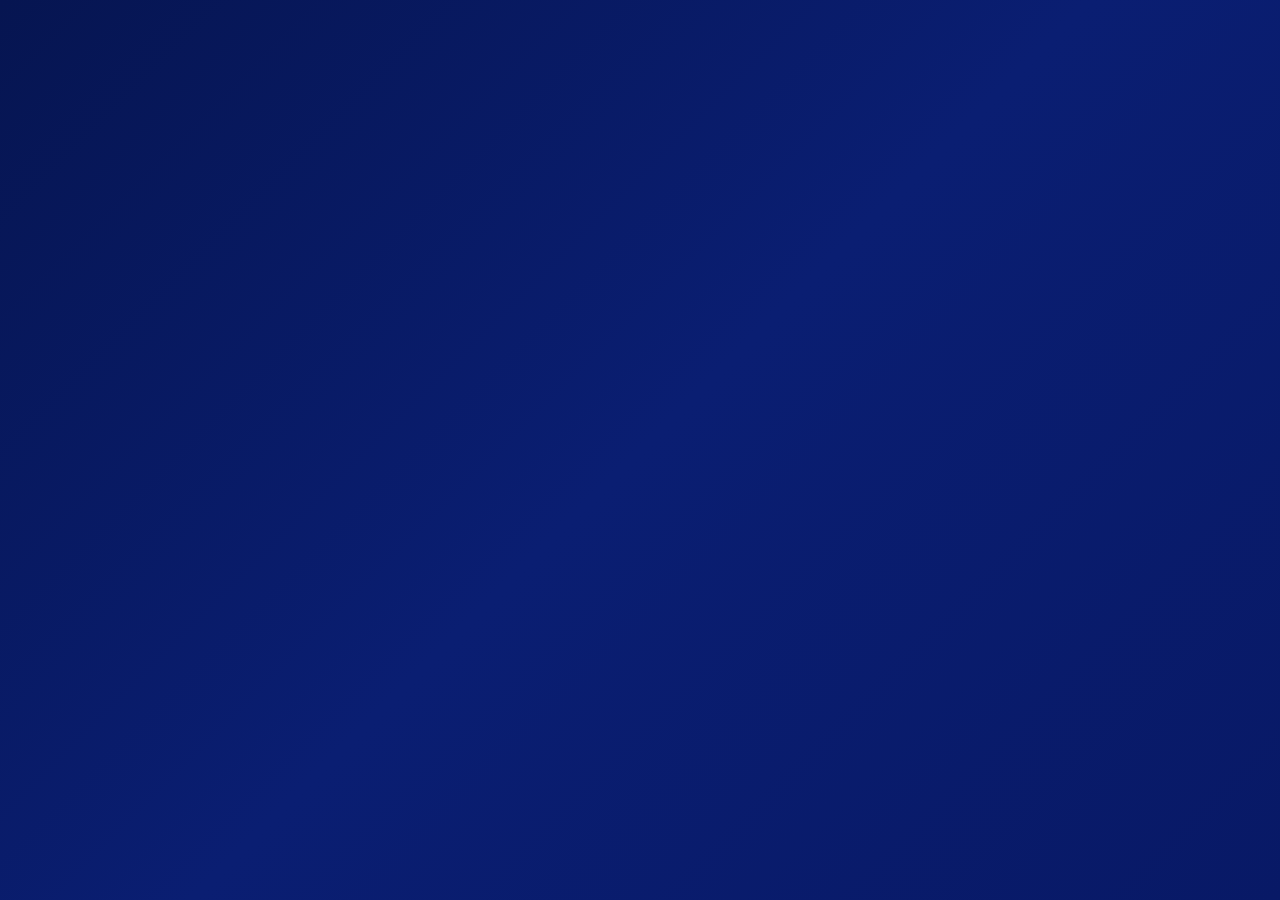
Test: CommandPalette › filters sessions by query
This screenshot has width=1280, height=900.
Step 1. Press k
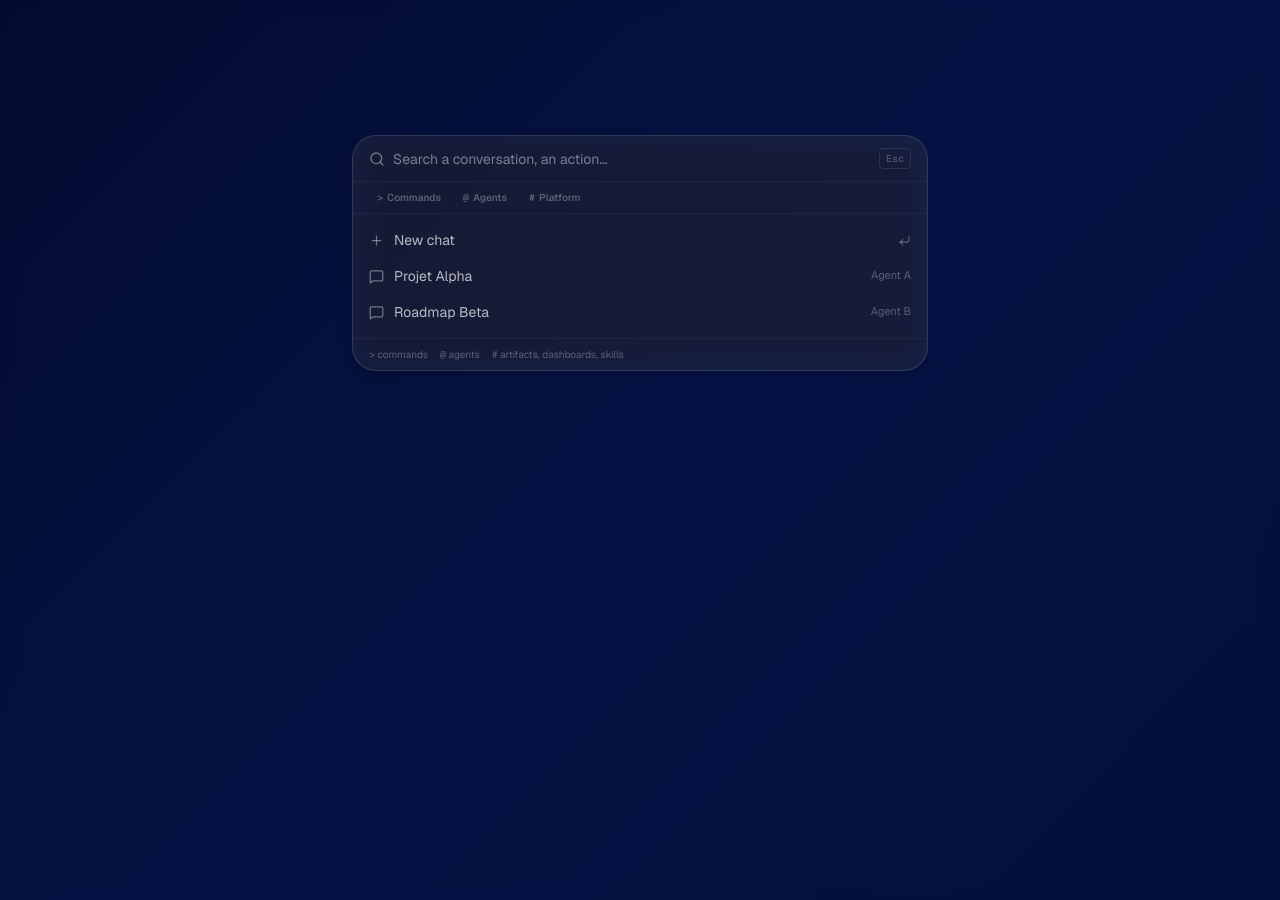
Step 2. Type "alpha" into the dropdown labelled "Search" → (632, 158), box left=393, top=148, right=871, bottom=168
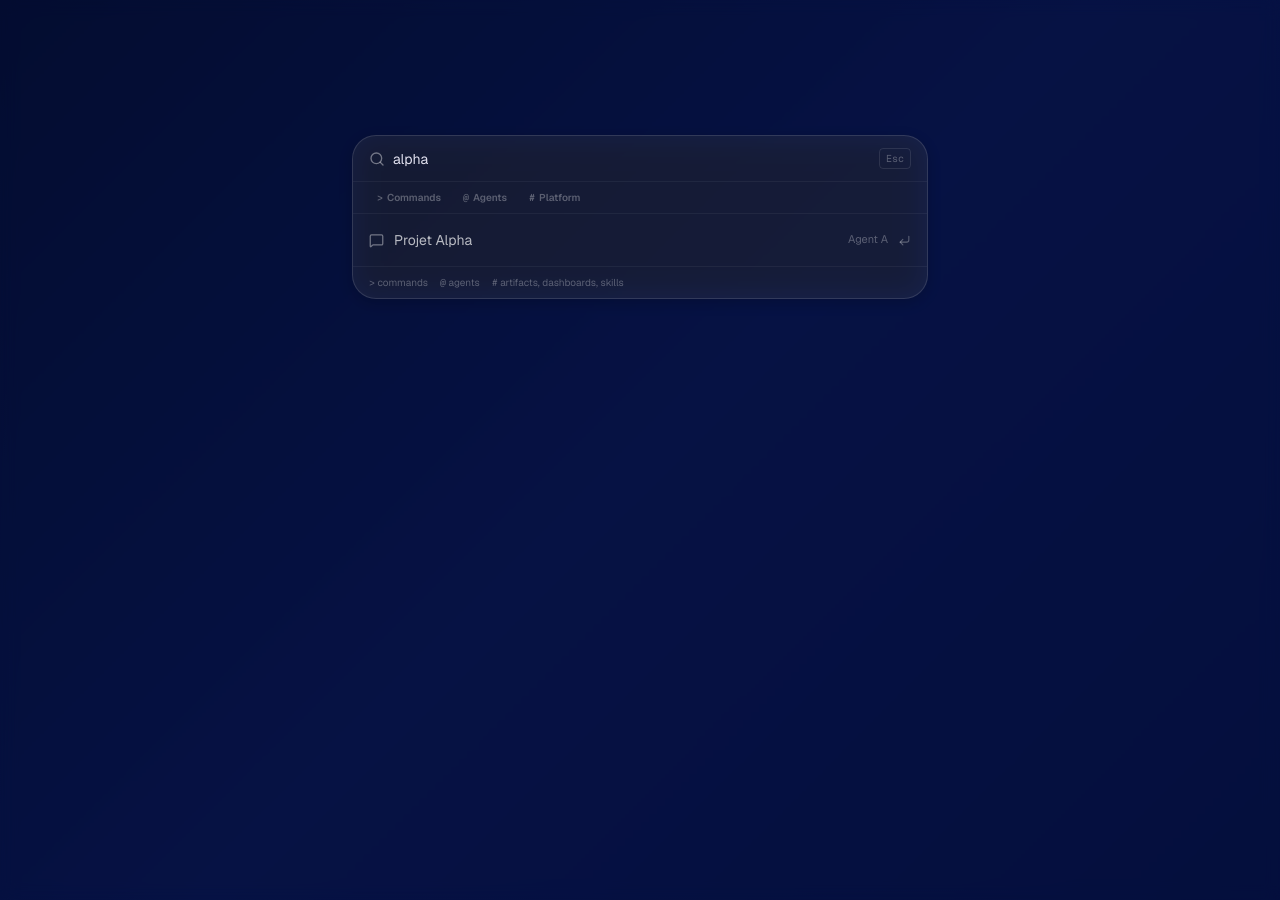
Now the text "Projet Alpha" is shown, box left=394, top=231, right=472, bottom=249
Now the option "Roadmap Beta" is gone
